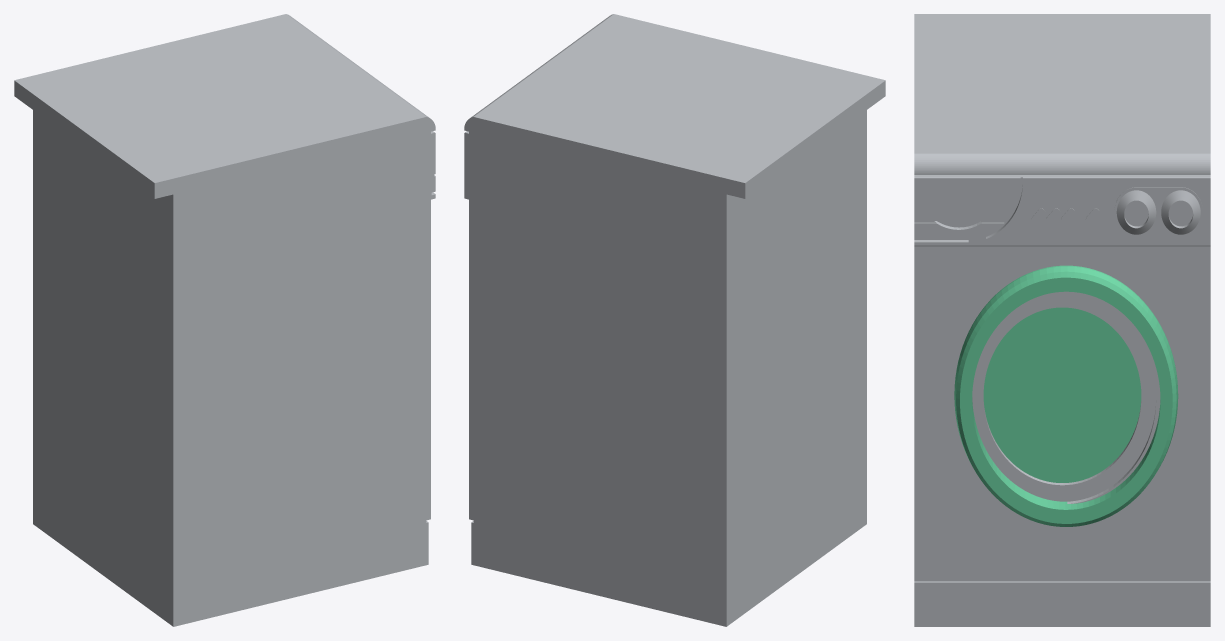
Rendered from parts.glb.
3 views of the same model, side by side, from view 1: azimuth 30°, elevation 25°; view 2: azimuth 150°, elevation 25°; view 3: azimuth 270°, elevation 25° (orthographic). The views are drawn at different scales.
Visible parts, largest first — view 1: visual_0_0; view 2: visual_0_0; view 3: visual_0_0, visual_3_0.
Boxes of the visible parts, x1,y1,x2,y2 form: visual_0_0: [14, 14, 435, 626]; visual_0_0: [464, 14, 885, 626]; visual_0_0: [914, 14, 1210, 626]; visual_3_0: [954, 265, 1178, 526].
Size of the model in its own units: 1.03 by 1.54 by 0.8727.
